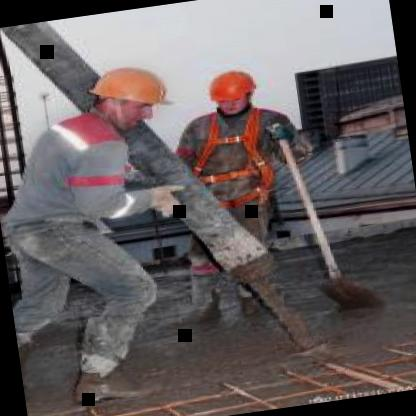helmet: (84, 58, 174, 132), (200, 65, 259, 120)
